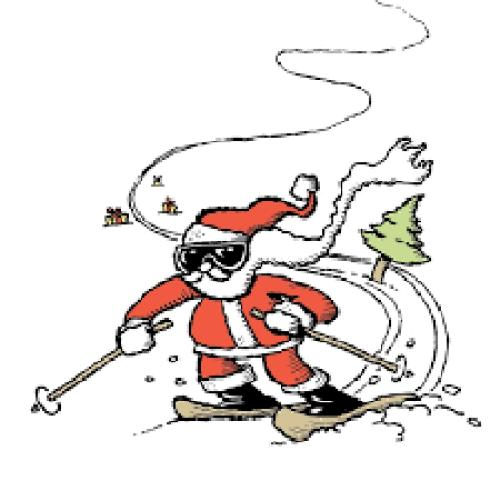Santa: (118, 174, 366, 418)
